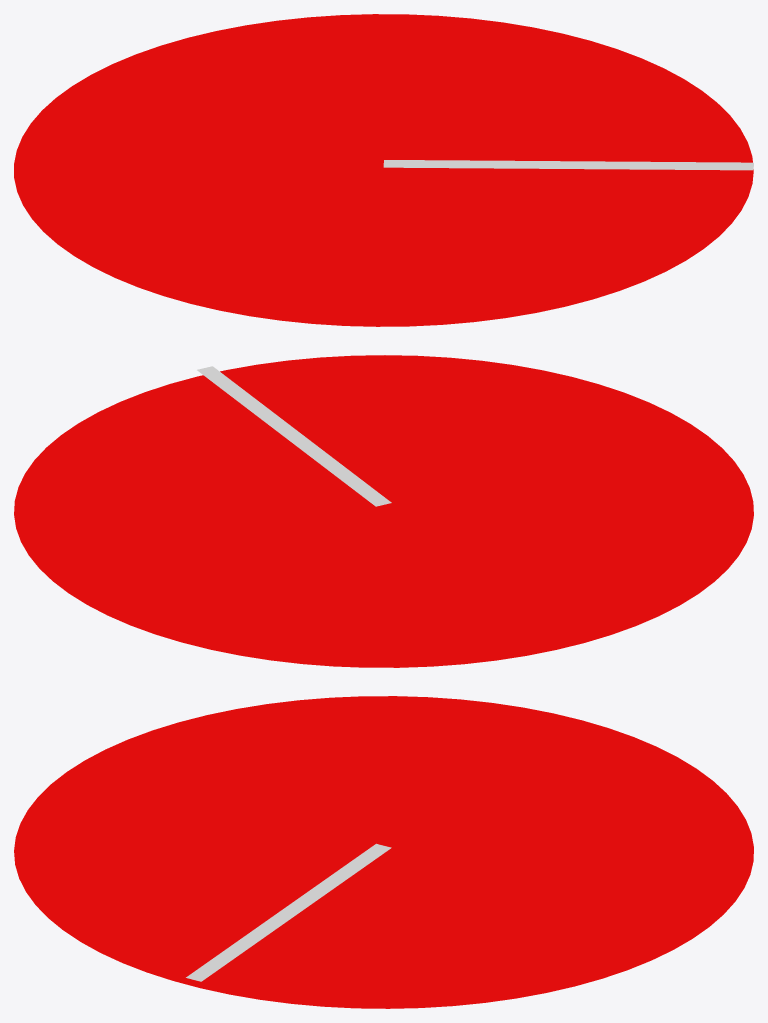
The model's file is result.glb.
The picture shows the model from 3 angles, top to bottom: view 1: azimuth 30°, elevation 25°; view 2: azimuth 150°, elevation 25°; view 3: azimuth 270°, elevation 25°; orthographic projection.
Parts seen in each view (by area): view 1: cc1eb119-4fdb-4bde-99eb-9a98c7d84c00__Circle, 353e6fba-23cb-4ffb-b049-a42ffe591e10__Plane_1; view 2: cc1eb119-4fdb-4bde-99eb-9a98c7d84c00__Circle, 353e6fba-23cb-4ffb-b049-a42ffe591e10__Plane_1; view 3: cc1eb119-4fdb-4bde-99eb-9a98c7d84c00__Circle, 353e6fba-23cb-4ffb-b049-a42ffe591e10__Plane_1.
Part boxes in pixels (bbox=[...]): cc1eb119-4fdb-4bde-99eb-9a98c7d84c00__Circle: bbox=[14, 14, 753, 326]; 353e6fba-23cb-4ffb-b049-a42ffe591e10__Plane_1: bbox=[383, 160, 753, 170]; cc1eb119-4fdb-4bde-99eb-9a98c7d84c00__Circle: bbox=[14, 355, 753, 667]; 353e6fba-23cb-4ffb-b049-a42ffe591e10__Plane_1: bbox=[197, 366, 391, 506]; cc1eb119-4fdb-4bde-99eb-9a98c7d84c00__Circle: bbox=[14, 696, 753, 1008]; 353e6fba-23cb-4ffb-b049-a42ffe591e10__Plane_1: bbox=[186, 843, 391, 981].
Bounding box in the file's own units: 99.97 × 1 × 99.97.
